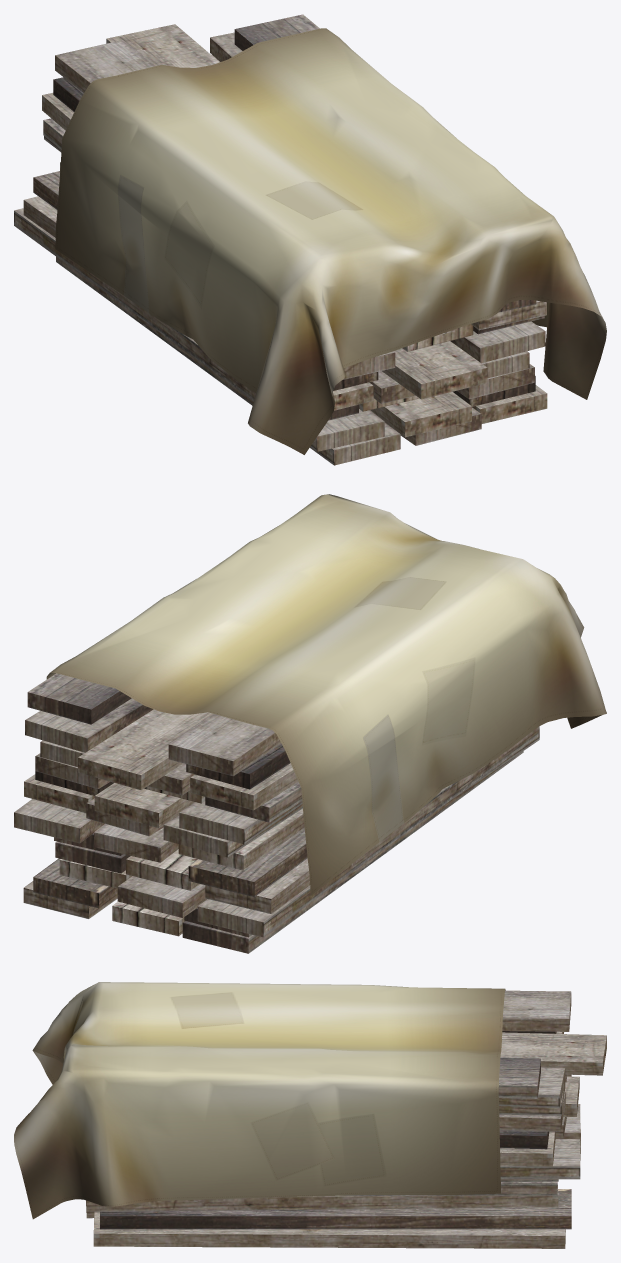
File: wood_pile.FBX
3 renders of one model, top to bottom at view 1: azimuth 30°, elevation 25°; view 2: azimuth 150°, elevation 25°; view 3: azimuth 270°, elevation 25°, orthographic. The views are drawn at different scales.
Visible parts, largest first — view 1: Box002; view 2: Box002; view 3: Box002.
Part boxes in pixels (box(x1,y1,x2,y2)): Box002: box(14, 14, 606, 465); Box002: box(14, 494, 606, 953); Box002: box(14, 982, 606, 1248).
Bounding box in the file's own units: 2 × 1.19 × 3.68.
Materials: 1 (1 with a texture image).
